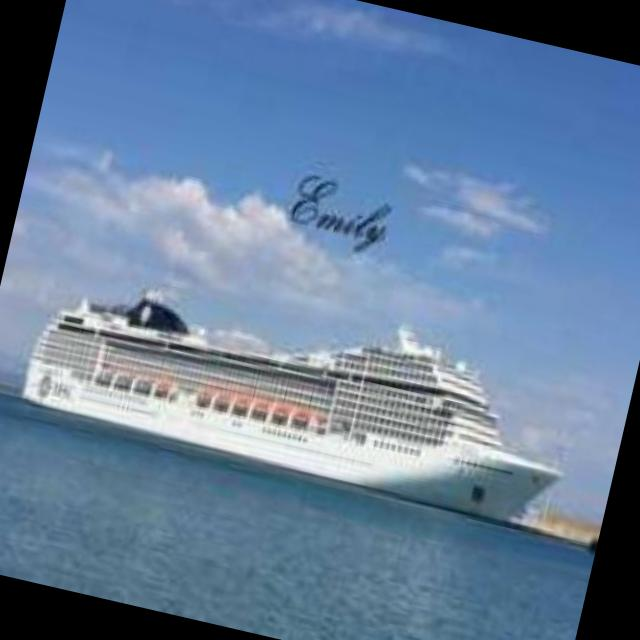boat: (0, 238, 603, 545)
